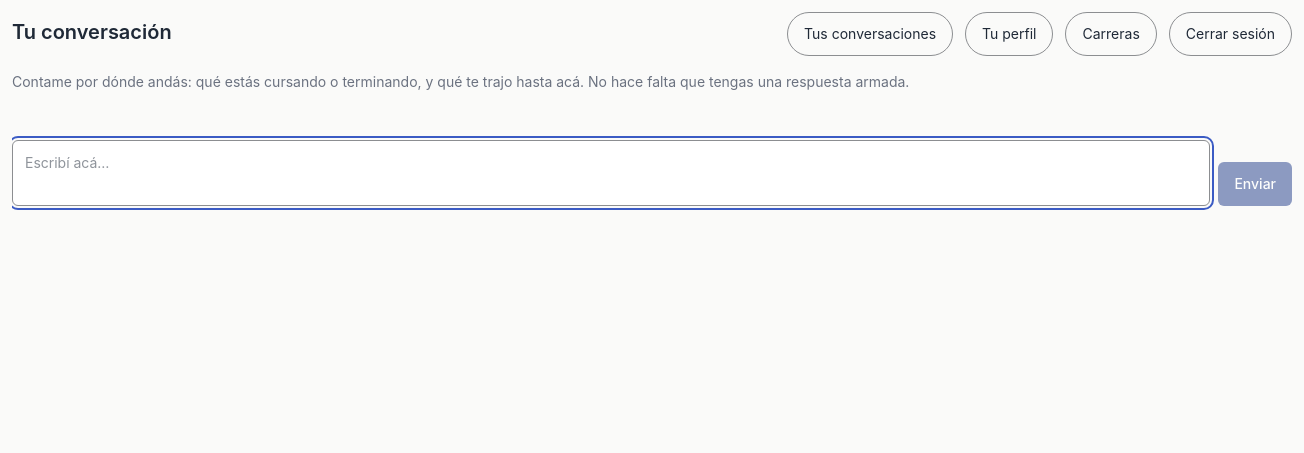
it: Conversacion · el cierre y el informe (S4-04) › una sesión cortada por escalamiento no ofrece el informe ni muestra fuentes
Type "…" into the text box named "escribí tu mensaje" at [611, 173], box left=12, top=140, right=1210, bottom=206
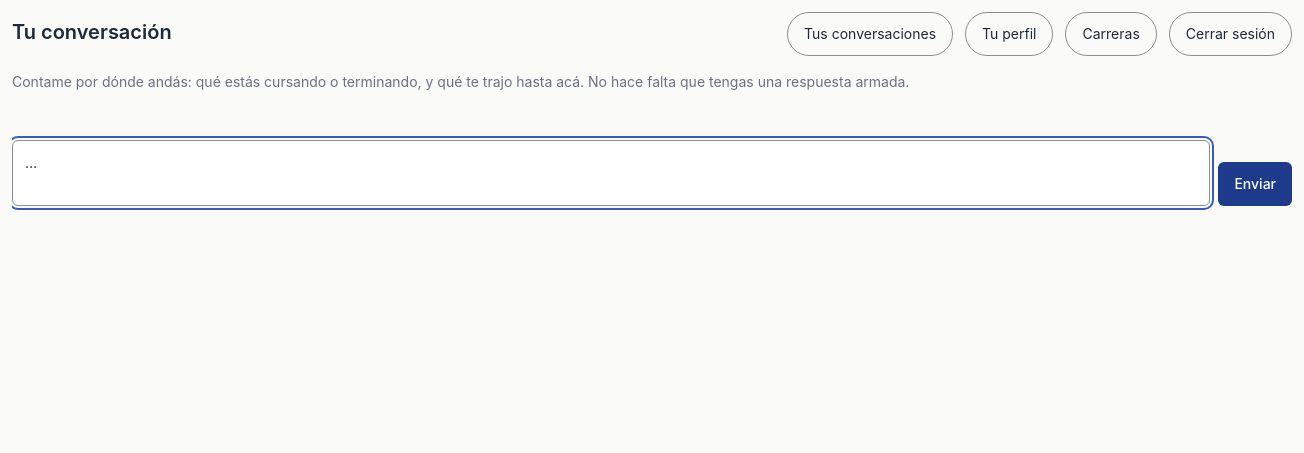
Click the button "Enviar" at [1255, 184], box left=1218, top=162, right=1292, bottom=206
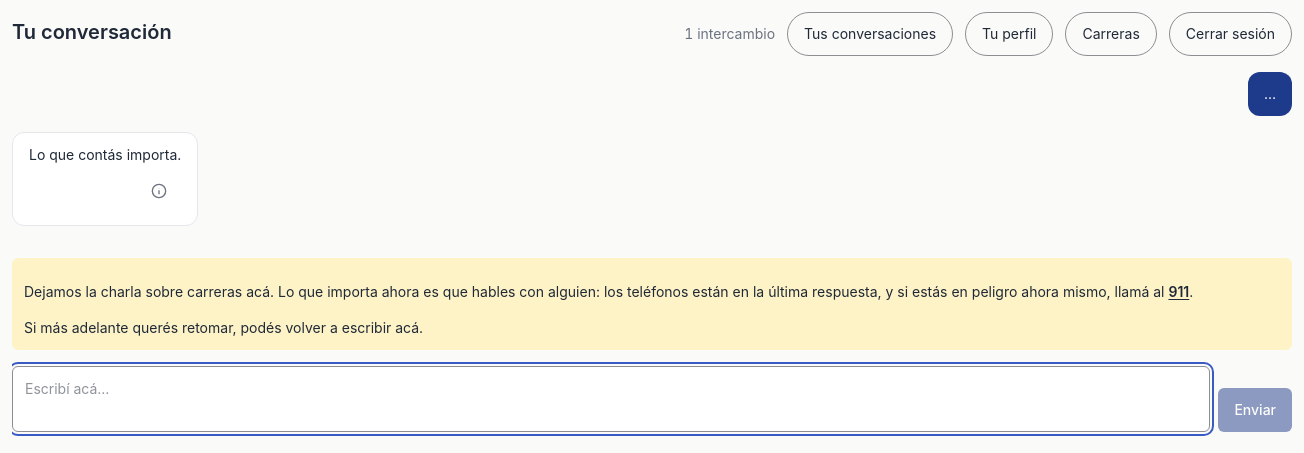
Result: the text "Dejamos la charla sobre carreras acá" is shown at left=24, top=283, right=1164, bottom=300
